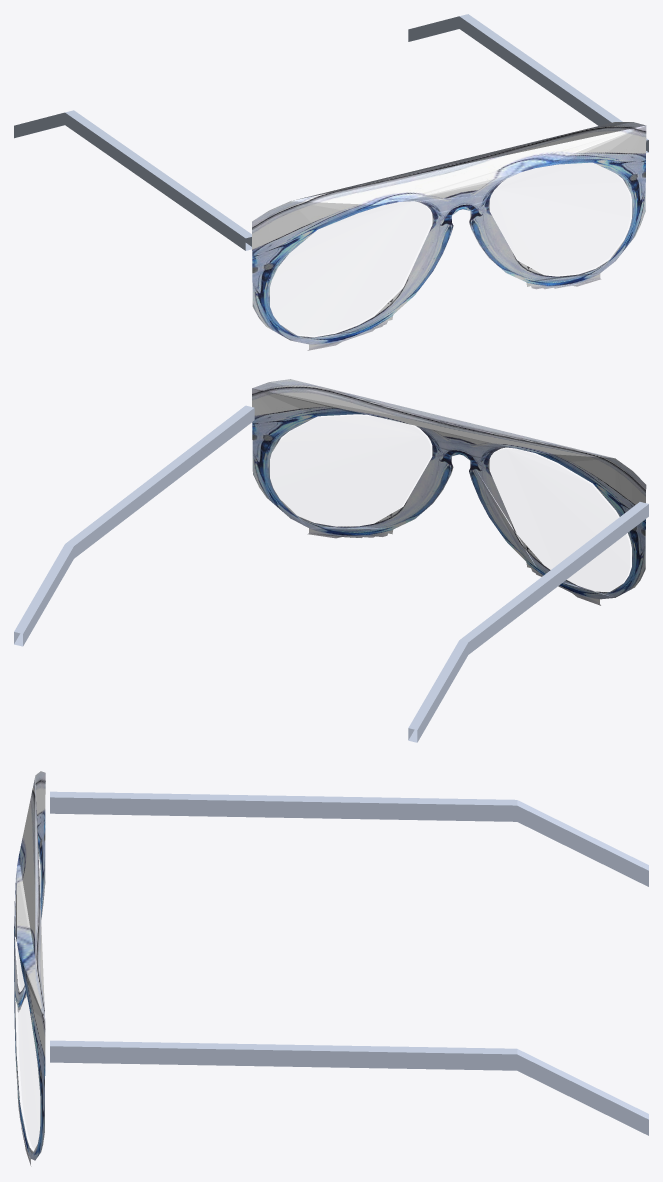
The model's file is gothamstyle-241_blue.glb.
The picture shows the model from 3 angles, top to bottom: view 1: azimuth 30°, elevation 25°; view 2: azimuth 150°, elevation 25°; view 3: azimuth 270°, elevation 25°; orthographic projection. The views are drawn at different scales.
Visible parts, largest first — view 1: frame_front, temple_viewer_left, temple_viewer_right; view 2: frame_front, temple_viewer_right, temple_viewer_left; view 3: temple_viewer_right, temple_viewer_left, frame_front.
Boxes of the visible parts, x1,y1,x2,y2 form: frame_front: (252, 122, 646, 350); temple_viewer_left: (14, 110, 251, 250); temple_viewer_right: (408, 14, 648, 153); frame_front: (252, 379, 646, 605); temple_viewer_right: (14, 405, 254, 646); temple_viewer_left: (408, 502, 648, 742); temple_viewer_right: (50, 1040, 648, 1135); temple_viewer_left: (50, 791, 648, 886); frame_front: (14, 771, 45, 1166).
Bounding box in the file's own units: 0.1337 × 0.0483 × 0.141.
Materials: 3 (2 with a texture image).
